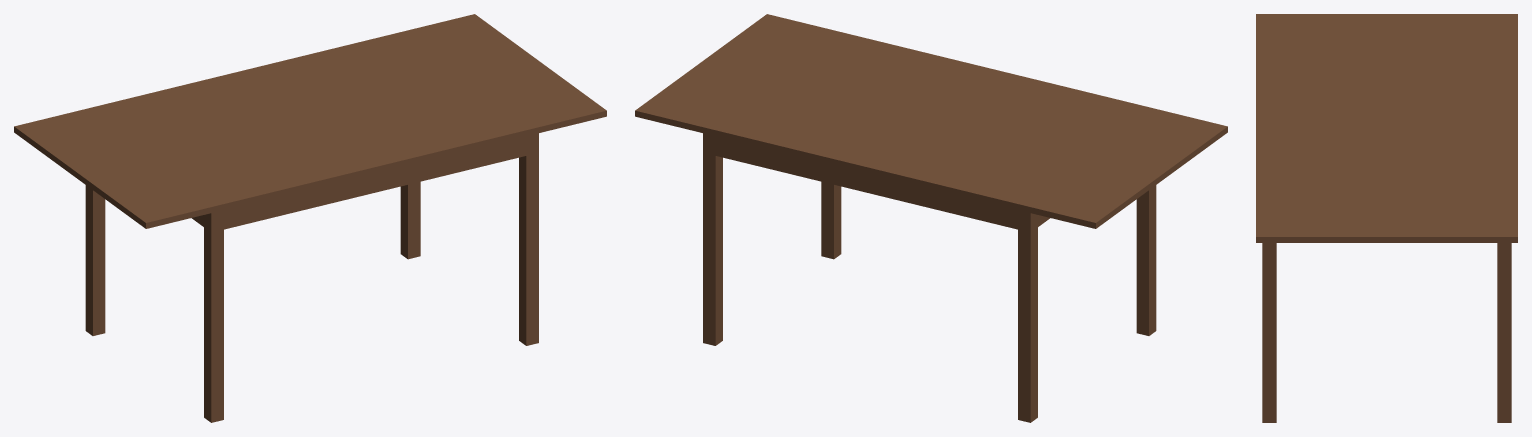
The model's file is hinge_table_lengthened.glb.
3 views of the same model, side by side, from view 1: azimuth 30°, elevation 25°; view 2: azimuth 150°, elevation 25°; view 3: azimuth 270°, elevation 25° (orthographic).
Visible parts, largest first — view 1: hinge_table_lengthened; view 2: hinge_table_lengthened; view 3: hinge_table_lengthened.
Part boxes in pixels (x1=…): hinge_table_lengthened: x1=14, y1=14, x2=606, y2=422; hinge_table_lengthened: x1=635, y1=14, x2=1227, y2=422; hinge_table_lengthened: x1=1256, y1=14, x2=1517, y2=422.
Bounding box in the file's own units: 64 × 29.05 × 31.75.
